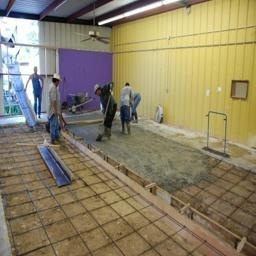no hat: (51, 68, 66, 88), (90, 81, 104, 98), (31, 61, 44, 79), (124, 79, 134, 91)
no vest: (45, 83, 63, 126), (26, 74, 46, 101), (101, 84, 118, 112), (121, 87, 134, 114)
